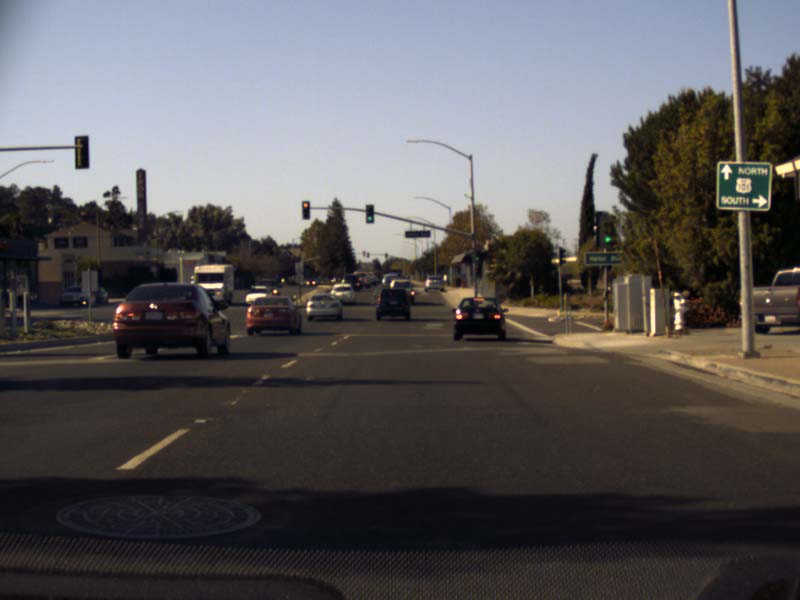Green: (598, 213, 614, 247), (365, 204, 373, 224), (472, 250, 480, 262)
Red: (301, 201, 310, 219)
